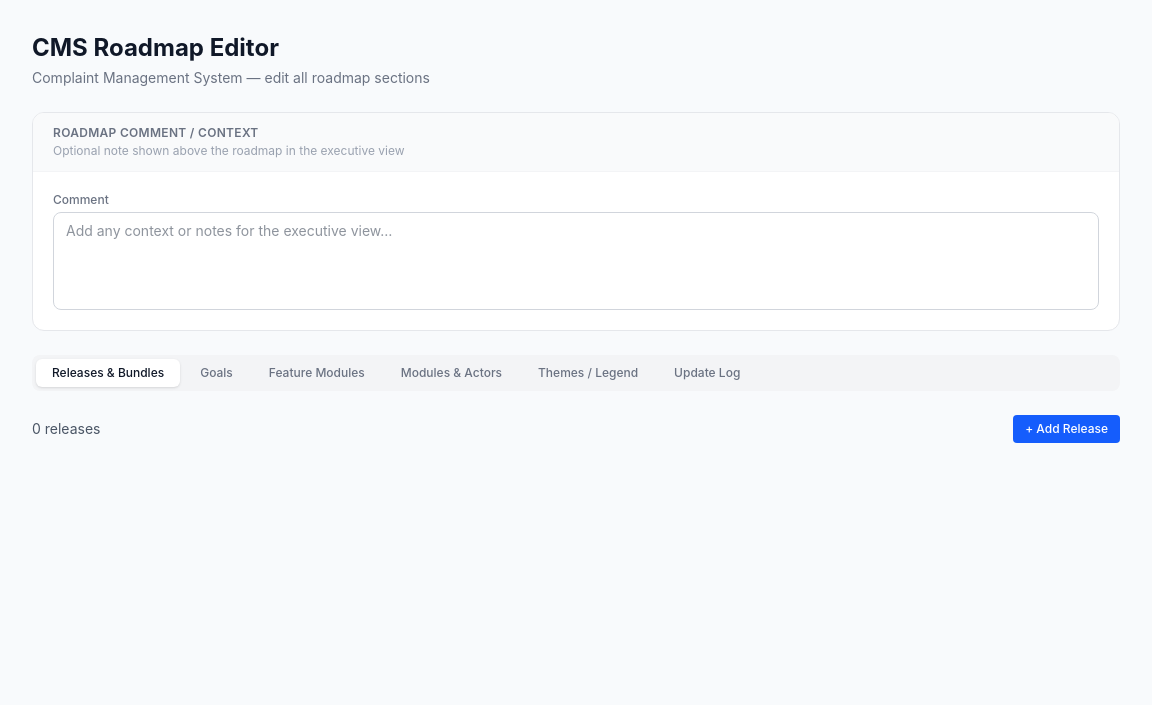
Test case: ComplaintsRoadmapEditor (via RoadmapEditor with cms slug) › T-50.15: "+ Add Entry" button opens log entry form
Click the button "Update Log".
click(707, 373)  # box [658,359,756,387]
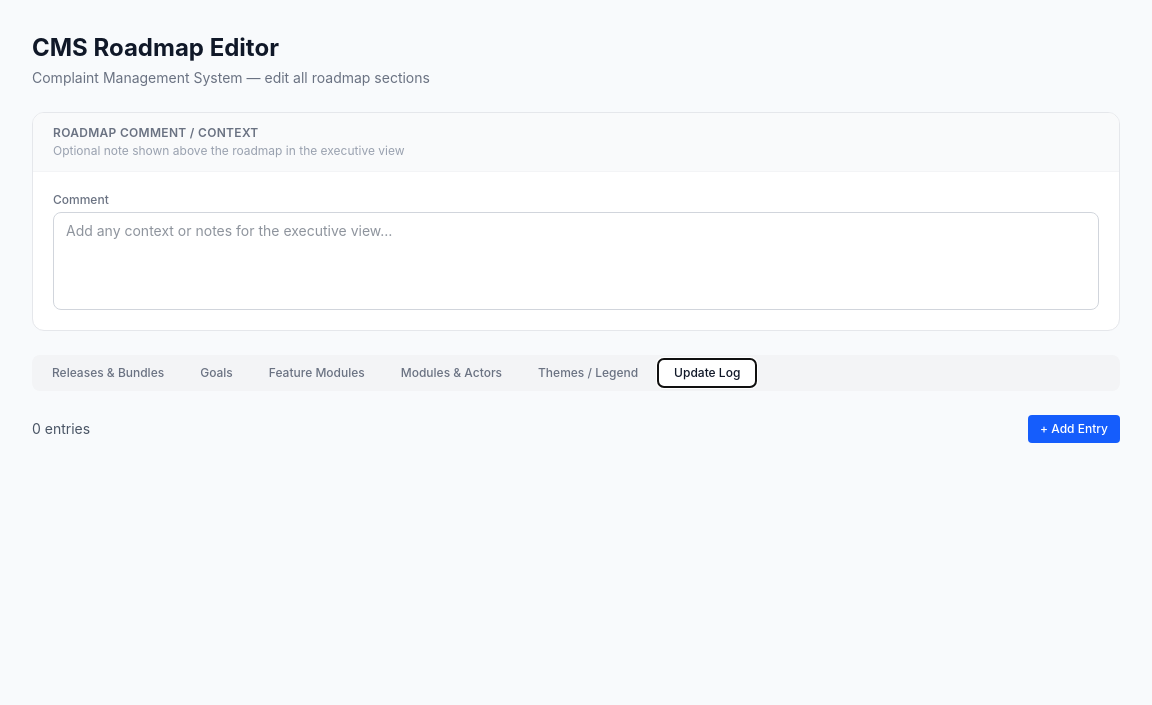
Check: the button "+ Add Entry" is shown
Click the button "+ Add Entry".
click(1074, 429)  # box [1028,415,1120,443]
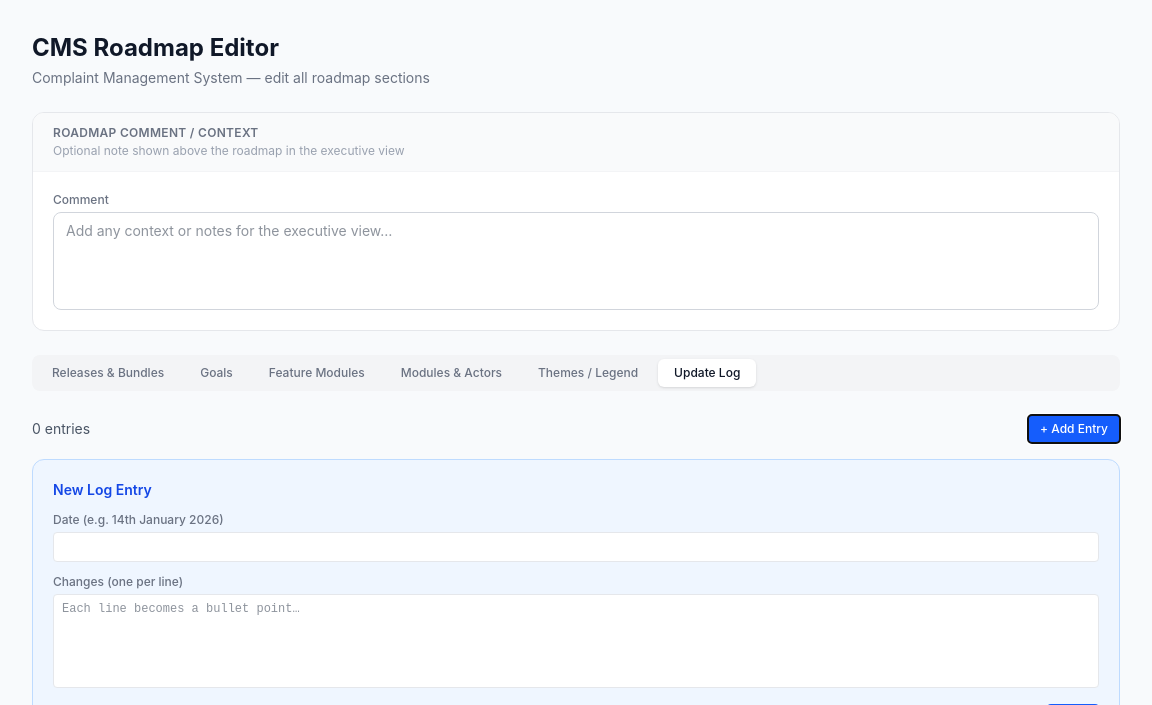
Check: the text "New Log Entry" is shown, box [53,481,152,498]
